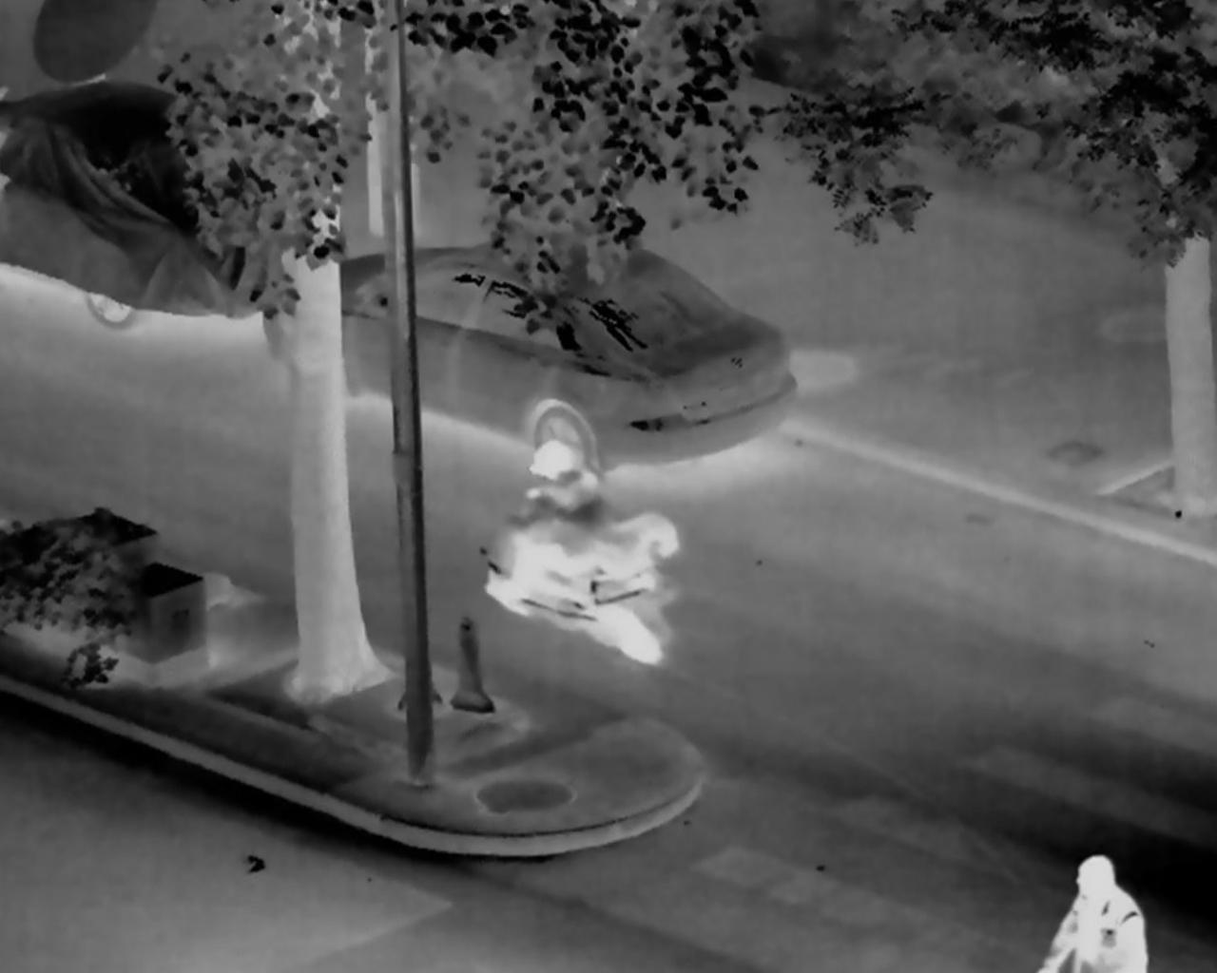person: (493, 438, 606, 607), (1038, 850, 1146, 973)
